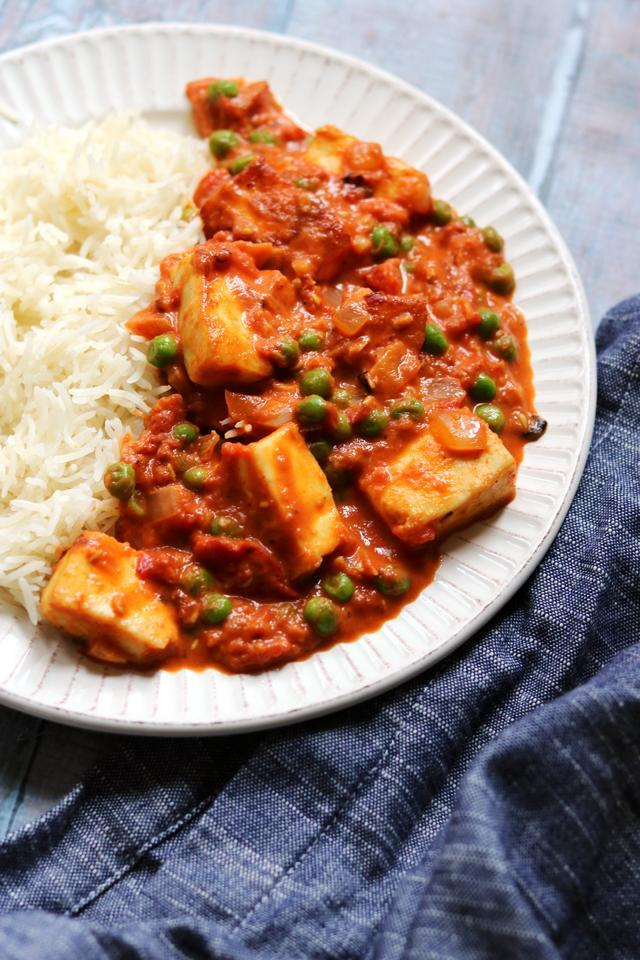paneer: (234, 184, 500, 603)
rice: (0, 151, 121, 465)
